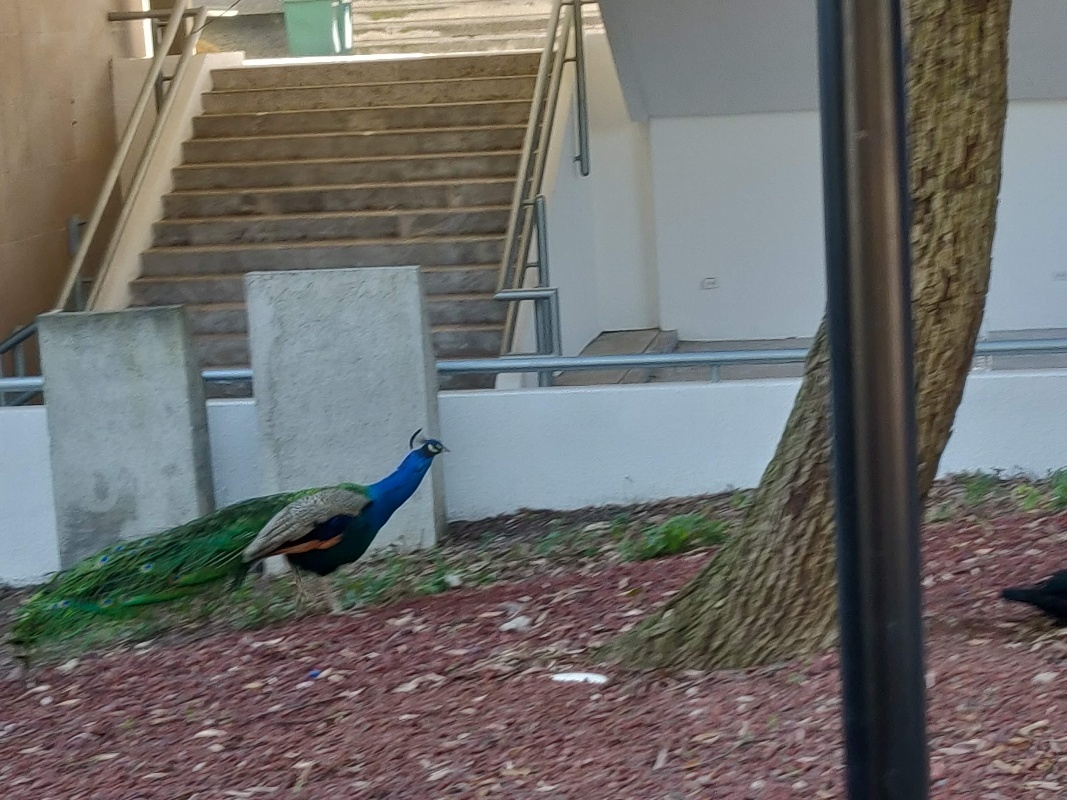pavoreal: (267, 428, 450, 600)
